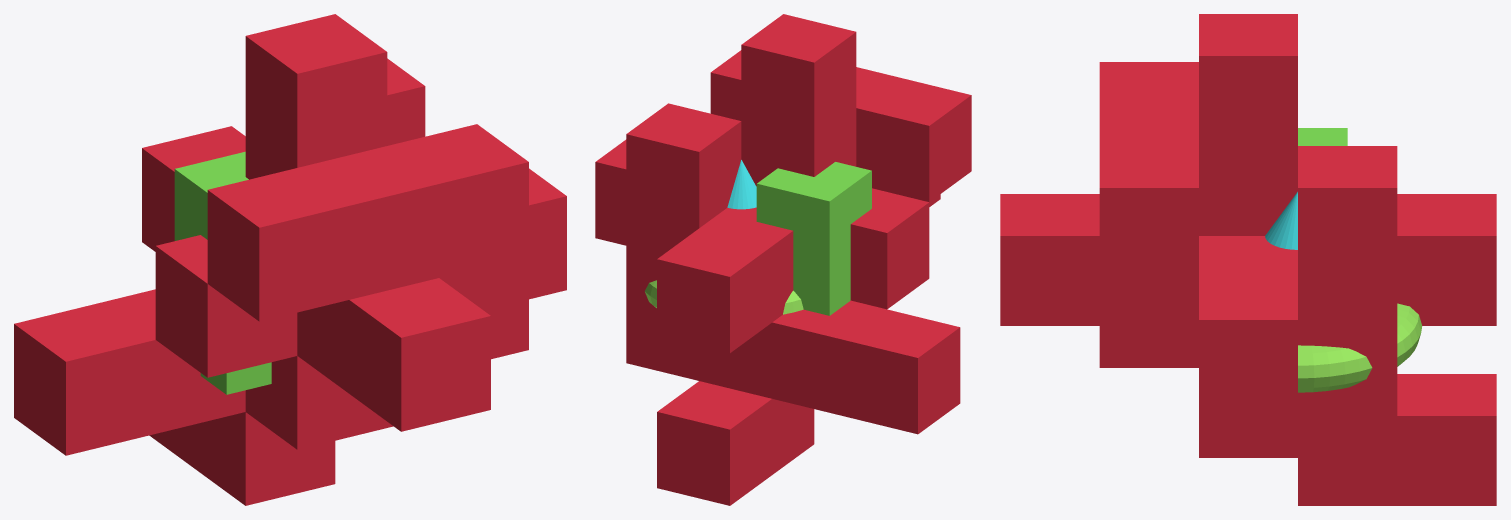
3 views of the same model, side by side, from view 1: azimuth 30°, elevation 25°; view 2: azimuth 150°, elevation 25°; view 3: azimuth 270°, elevation 25° (orthographic). The views are drawn at different scales.
Visible parts, largest first — view 1: Random, Cube; view 2: Random, Cube, Cone, Torus; view 3: Random, Torus, Cone, Cube.
Part boxes in pixels (left/top/right/bottom): Random: left=14, top=14, right=566, bottom=505; Cube: left=174, top=151, right=271, bottom=394; Random: left=595, top=14, right=971, bottom=505; Cube: left=756, top=162, right=871, bottom=315; Cone: left=727, top=160, right=756, bottom=209; Torus: left=644, top=280, right=803, bottom=314; Random: left=1000, top=14, right=1496, bottom=505; Torus: left=1298, top=303, right=1422, bottom=392; Cone: left=1265, top=191, right=1297, bottom=249; Cube: left=1298, top=128, right=1347, bottom=145.
Bounding box in the file's own units: 500 × 500 × 500.
